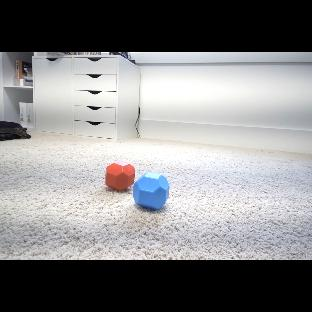V5_BLUE: (134, 172, 170, 211)
V5_RED: (105, 163, 135, 191)
